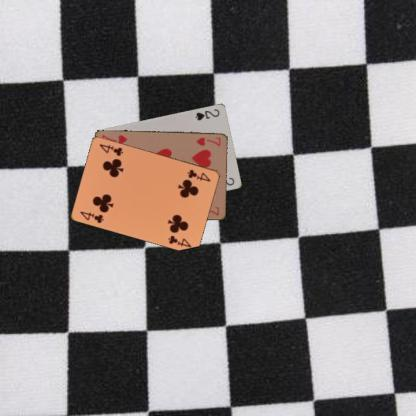2s: (193, 107, 221, 122)
4c: (185, 167, 212, 183), (78, 209, 105, 224)
7h: (193, 134, 222, 147)
